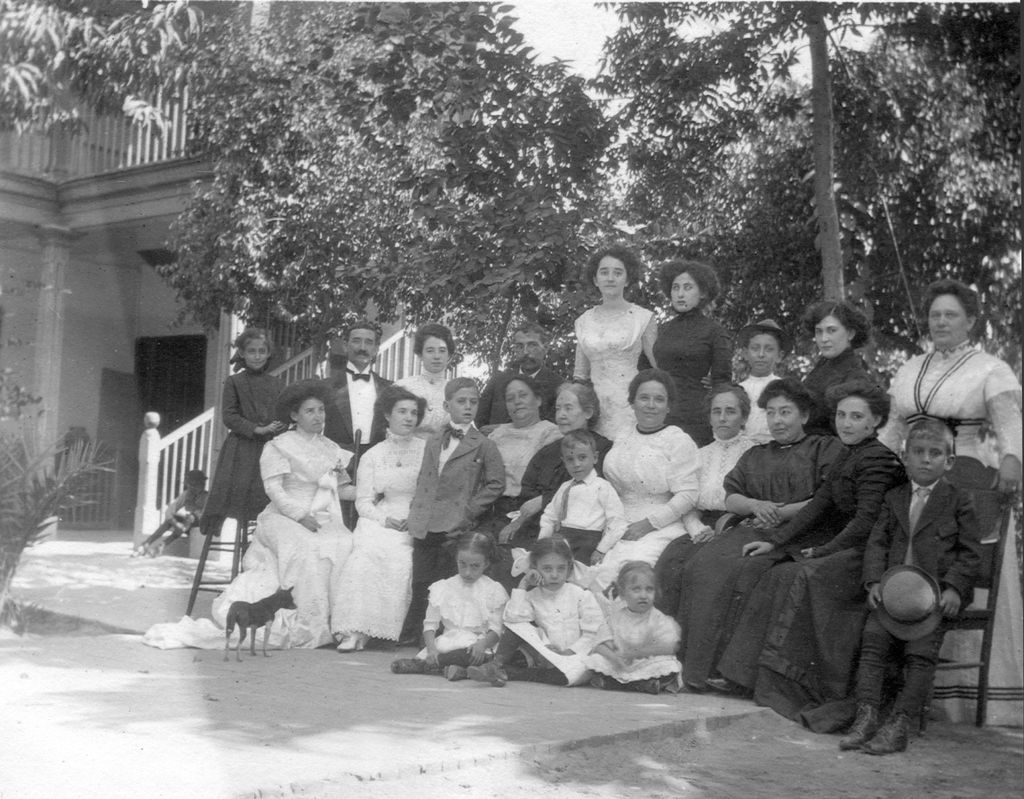Human-face: (927, 295, 972, 343), (908, 438, 947, 486), (834, 402, 872, 443), (555, 386, 589, 429), (712, 391, 742, 434), (768, 402, 801, 440), (346, 327, 380, 363), (636, 383, 666, 423), (515, 327, 545, 365), (536, 552, 569, 586), (671, 272, 701, 309), (507, 381, 536, 419), (390, 395, 418, 432), (818, 317, 845, 355), (749, 335, 779, 369), (296, 397, 326, 429), (596, 258, 625, 291), (627, 573, 655, 607), (452, 386, 478, 422), (569, 445, 596, 479), (420, 338, 448, 369), (239, 340, 271, 364), (460, 555, 488, 578)
